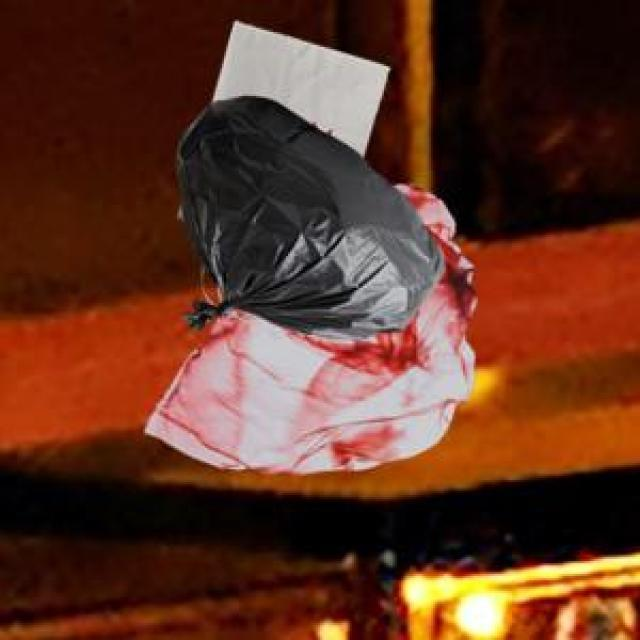miscellaneous trash: (173, 92, 440, 335)
paper: (209, 17, 386, 154)
